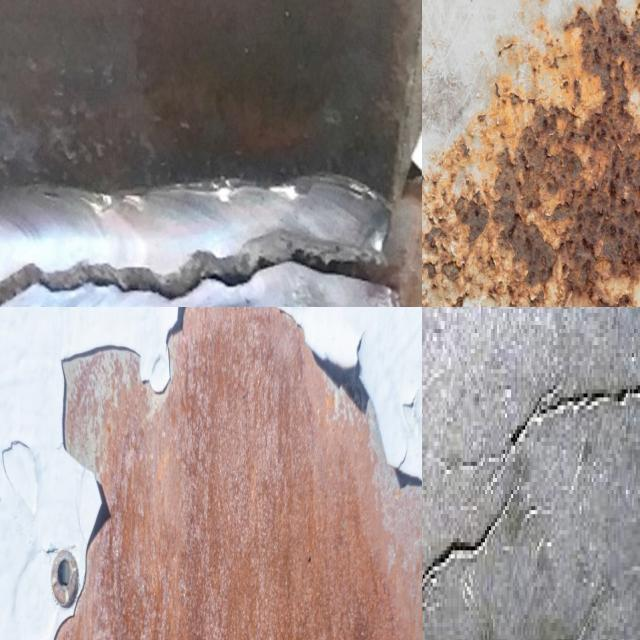Crack: (0, 229, 383, 304), (463, 377, 640, 462), (422, 502, 507, 595)
Pitting Corrosion: (422, 0, 640, 307)
Uniform Corrosion: (54, 307, 422, 640)
